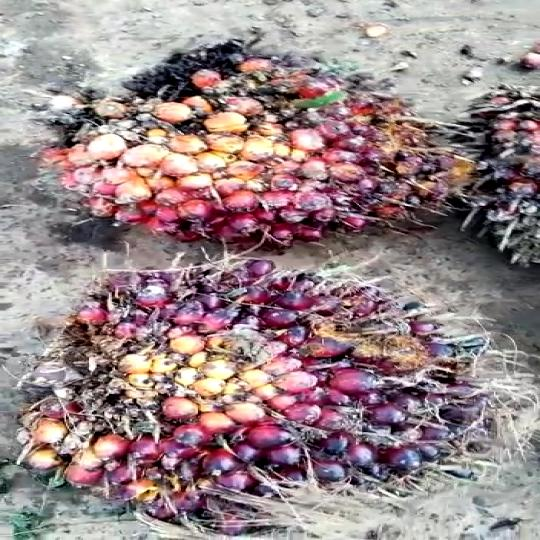masak: (0, 254, 531, 528), (20, 31, 488, 258)
